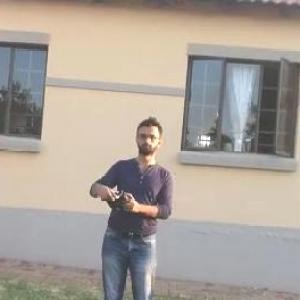follow: (82, 108, 182, 299)
